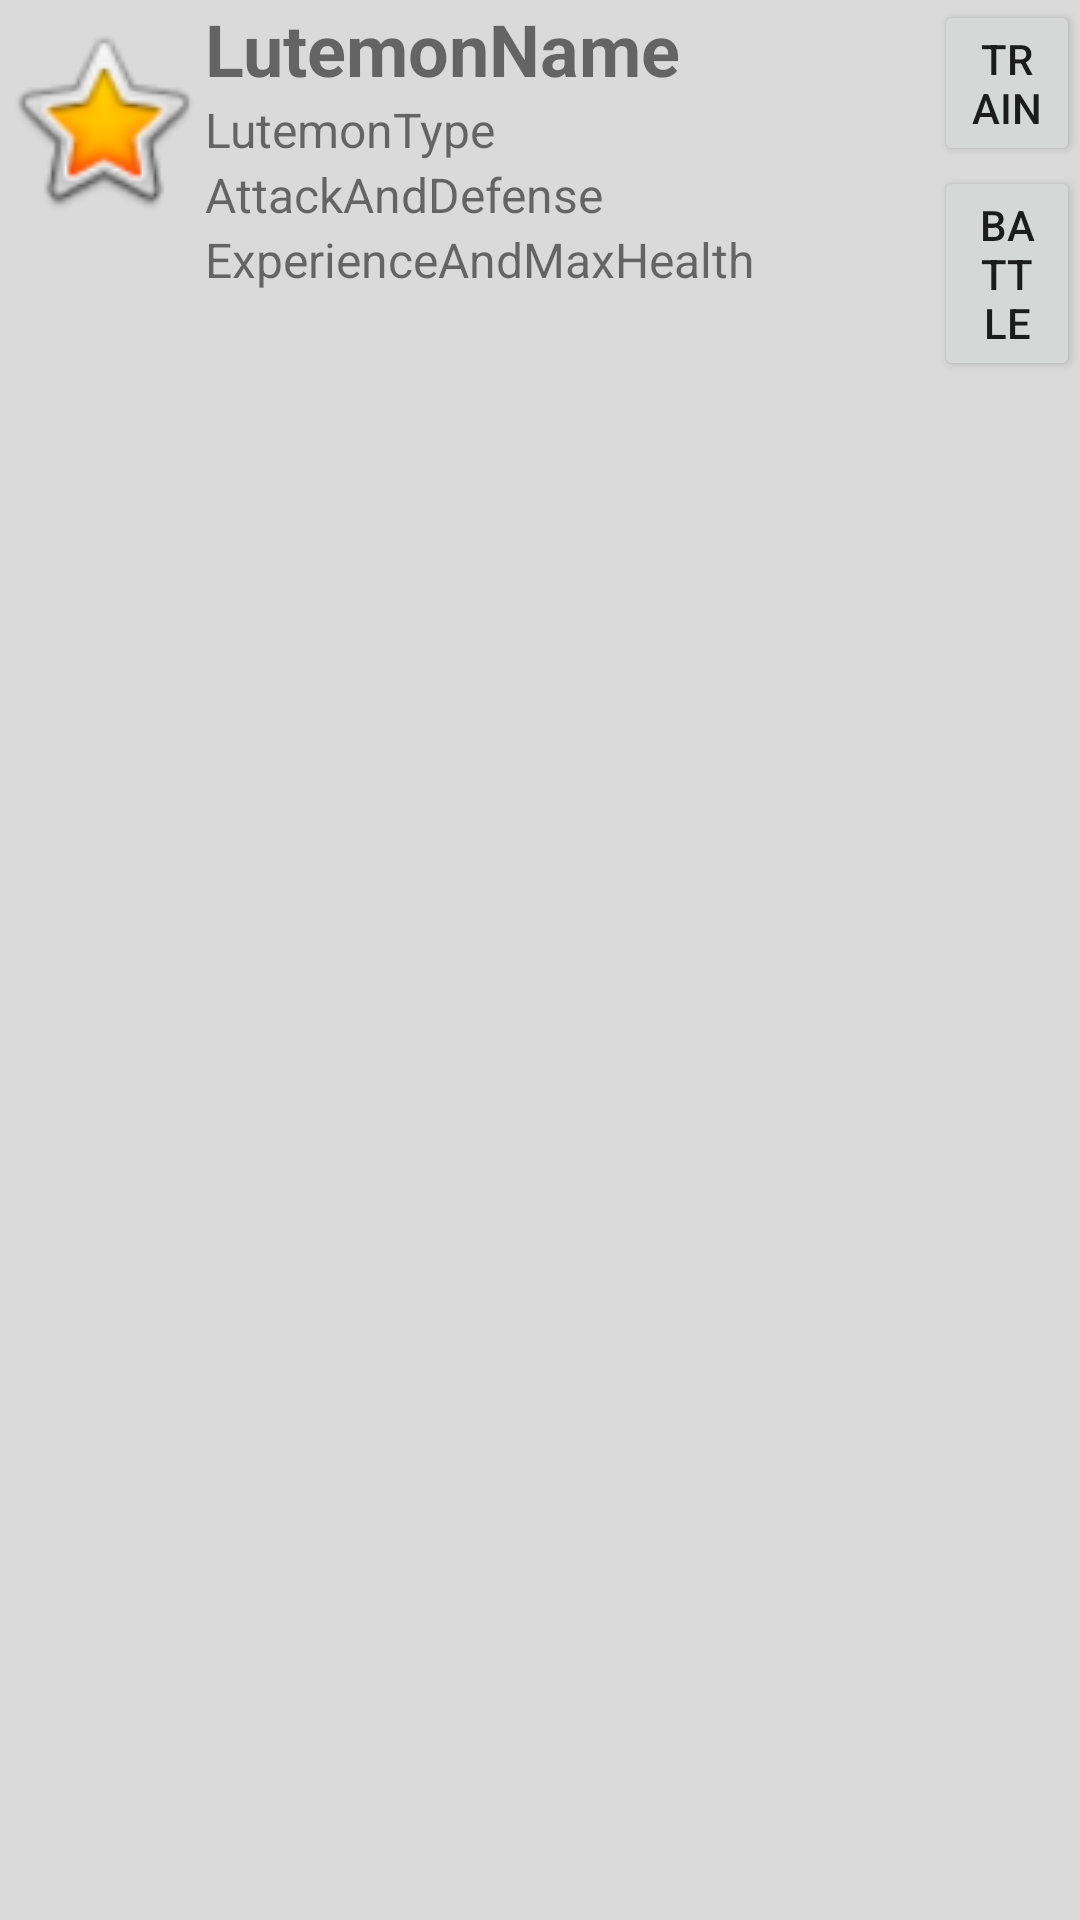

Icon bounding boxes for this 1080 x 1920 phone screenshot, format bbox=[x1, y1, x2, y2]:
star on: bbox=[19, 39, 190, 205]
